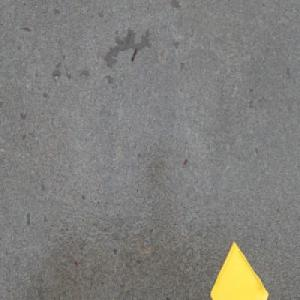PlasticPart: (209, 238, 270, 300)
